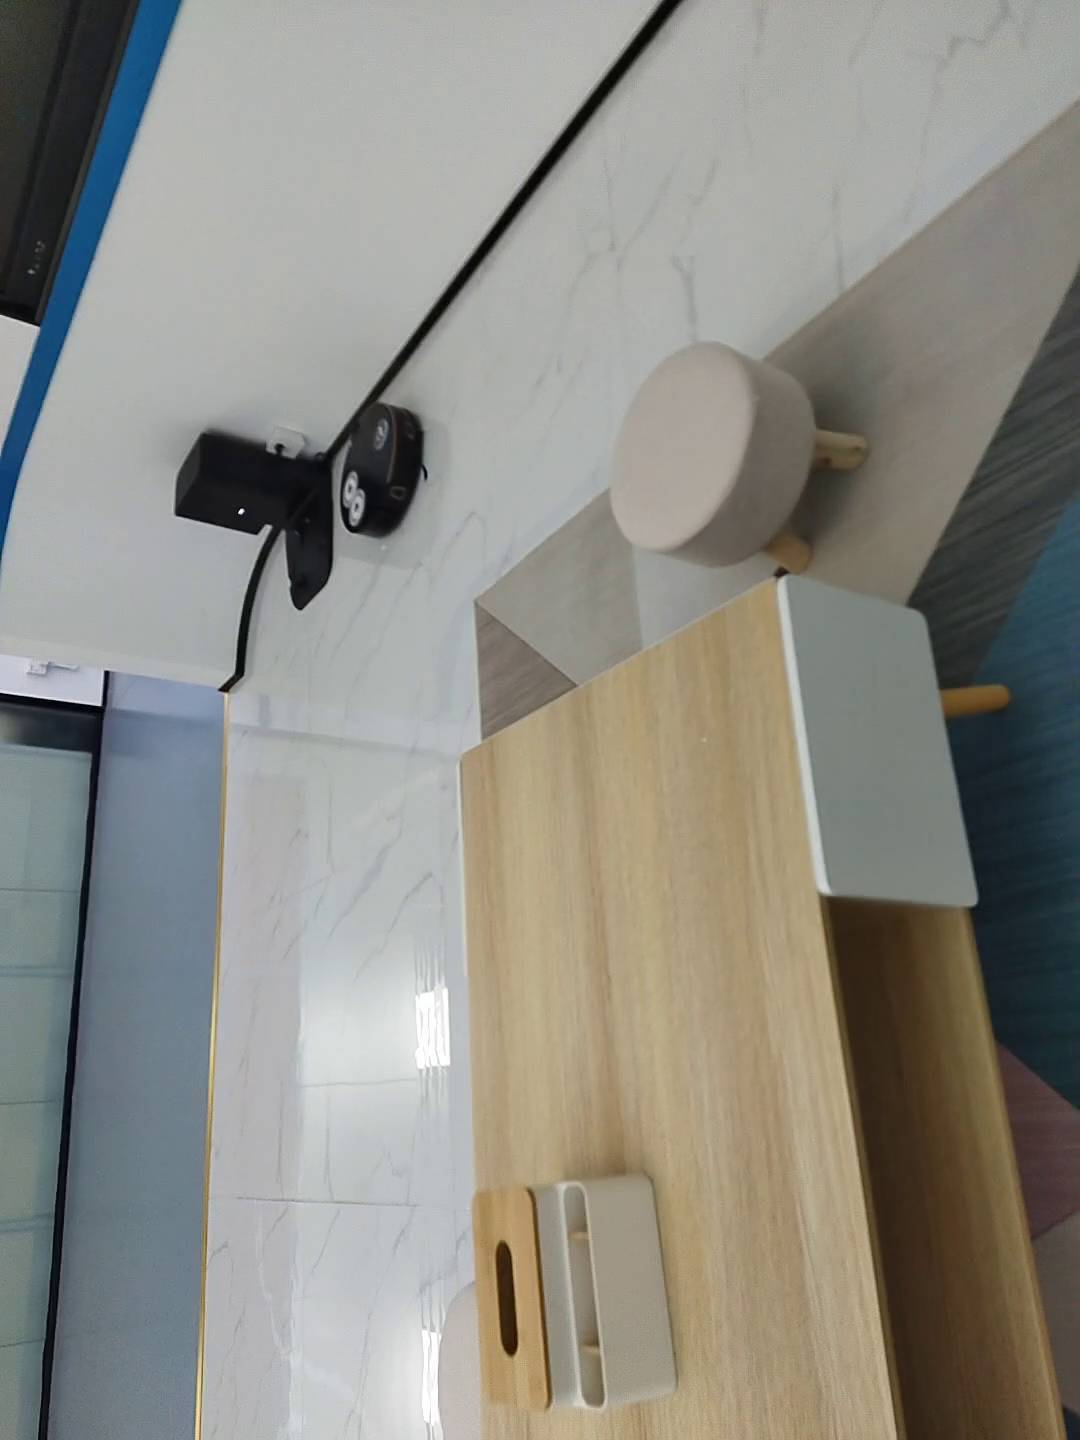dust collecting barrel: (175, 432, 334, 609)
